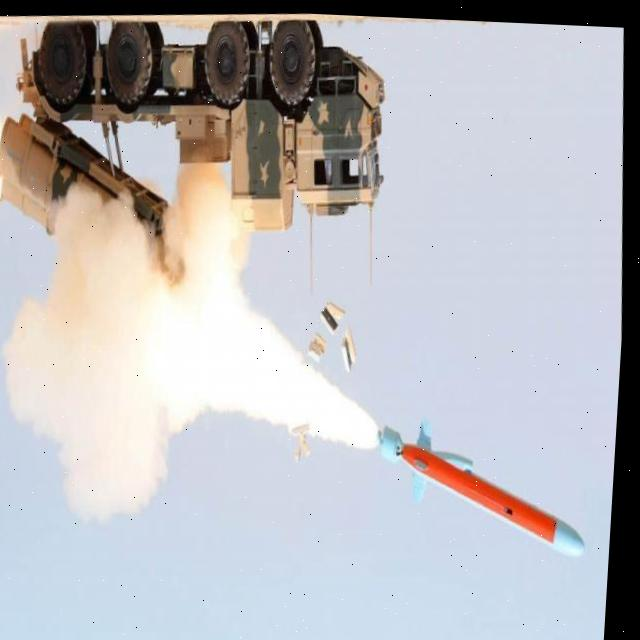missile: (378, 408, 599, 559)
